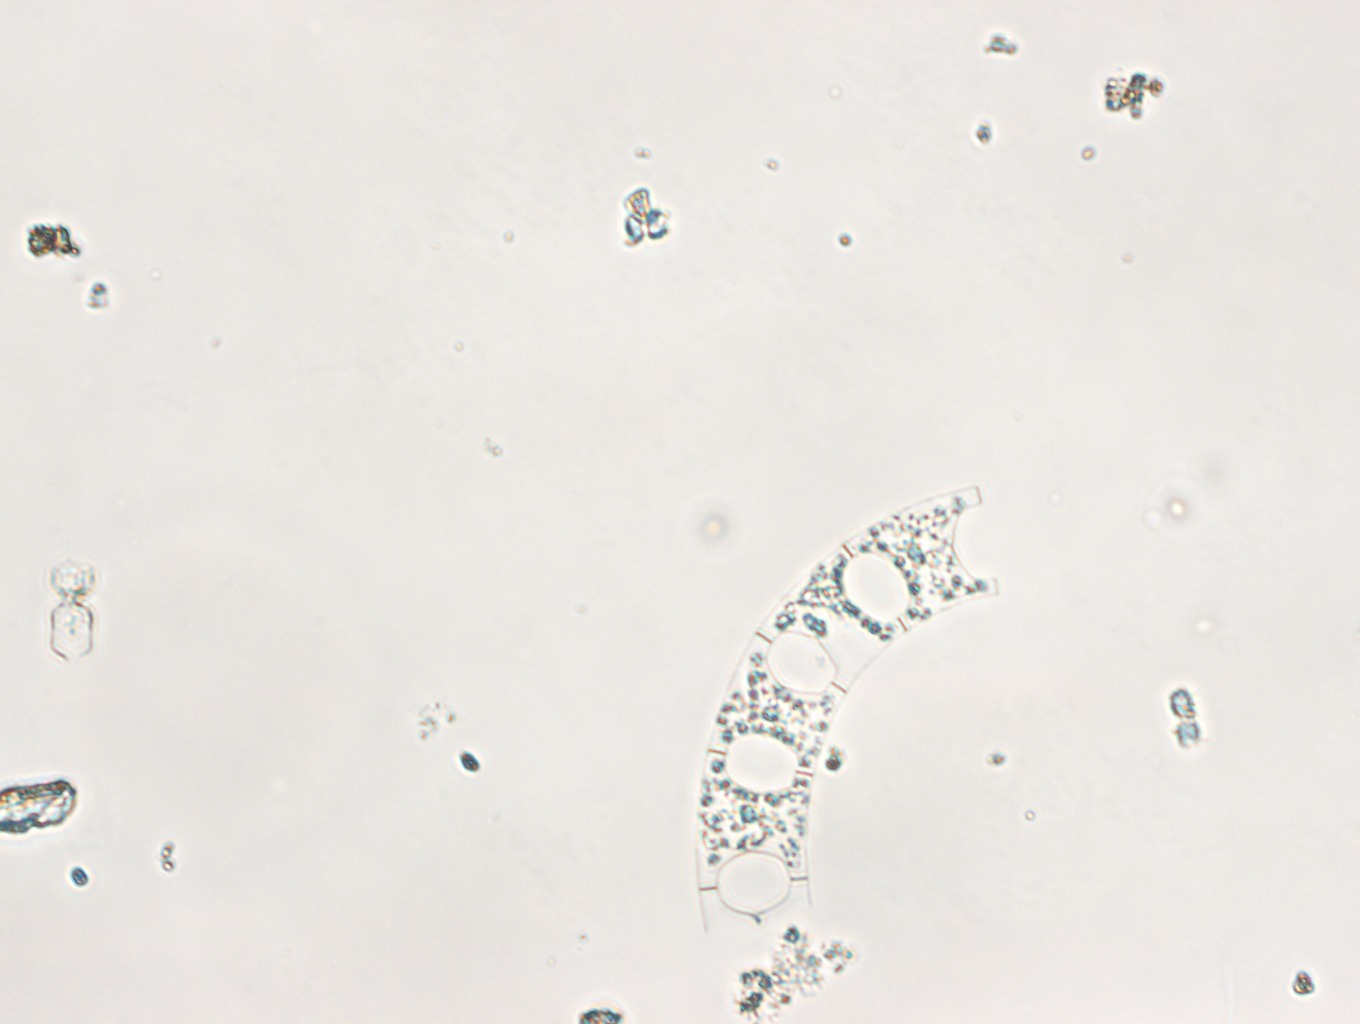eucampia: (696, 482, 993, 937)
